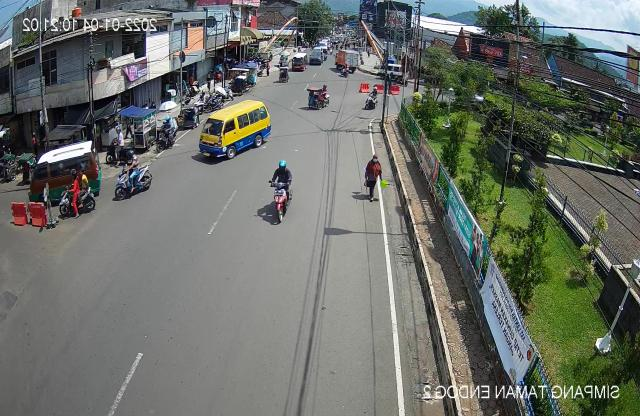Becak: (302, 78, 331, 118)
Mobil: (23, 138, 101, 209), (196, 98, 271, 164)
Motor: (112, 146, 155, 209), (56, 168, 96, 220), (264, 158, 292, 224), (153, 114, 178, 158), (363, 83, 379, 112)
